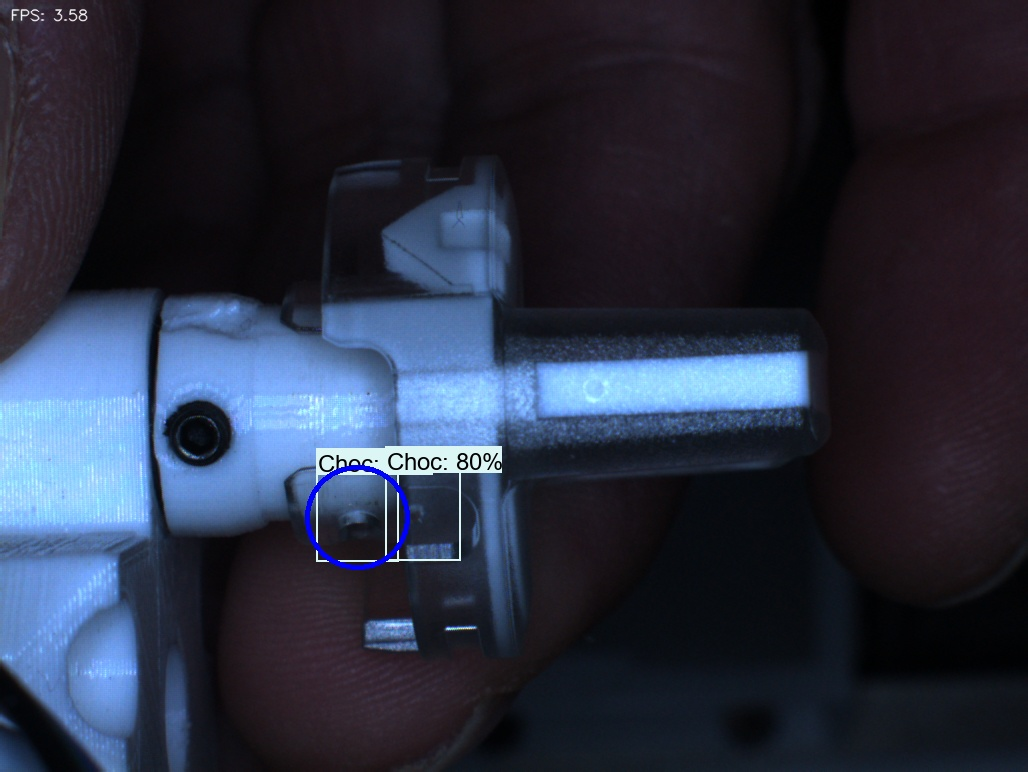DentOk: (350, 191, 426, 294)
